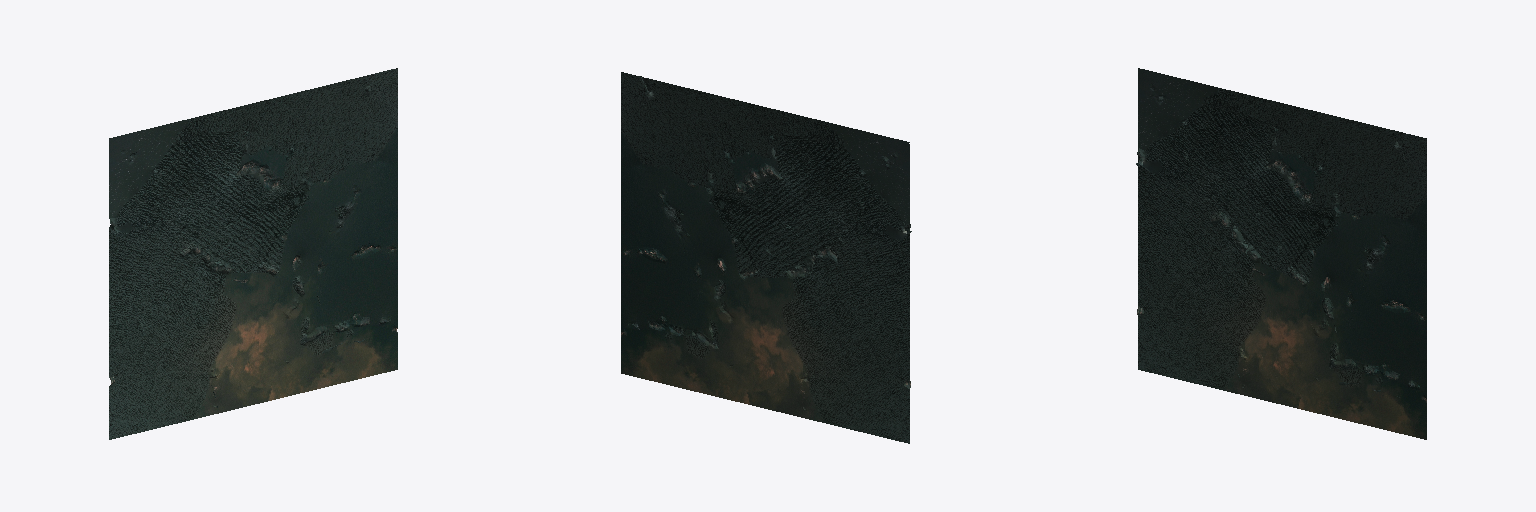
3 renders of one model, left to right at view 1: azimuth 30°, elevation 25°; view 2: azimuth 150°, elevation 25°; view 3: azimuth 330°, elevation 25°, orthographic.
Bounding box in the file's own units: 252 × 252 × 13.4.
Materials: 2 (1 with a texture image).